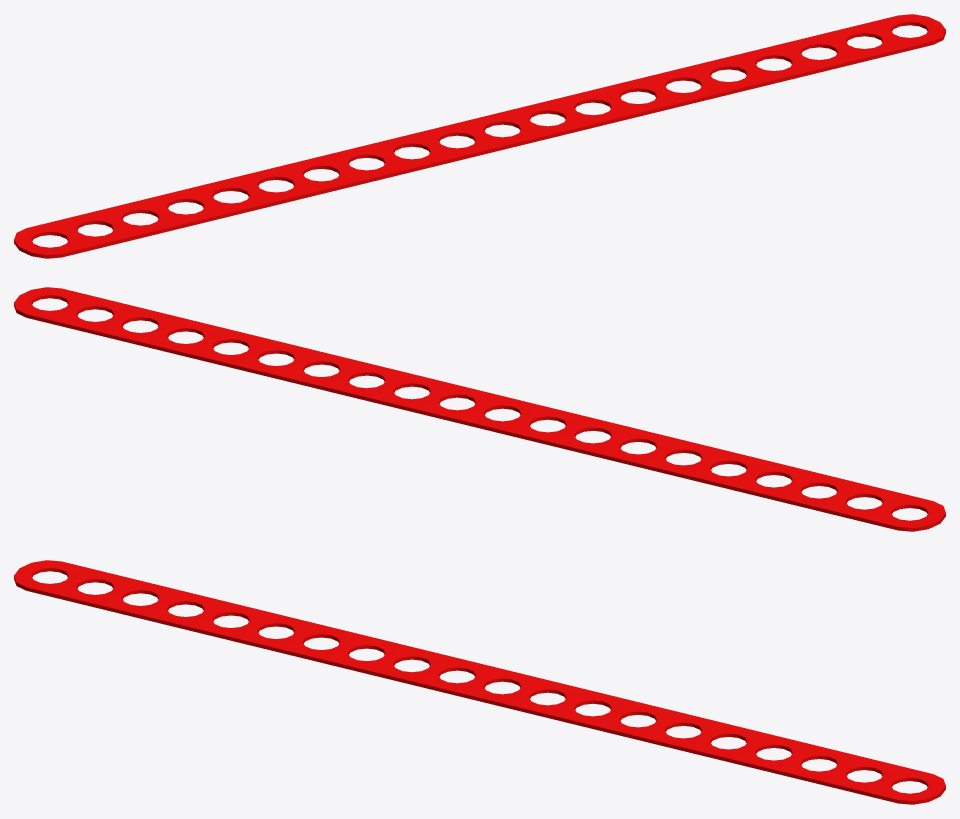
The model's file is TwentyLongRed.fbx.
3 views of the same model, one above another, from view 1: azimuth 30°, elevation 25°; view 2: azimuth 150°, elevation 25°; view 3: azimuth 330°, elevation 25° (orthographic).
Parts seen in each view (by area): view 1: Blue20; view 2: Blue20; view 3: Blue20.
Part boxes in pixels (x1,y1,x2,y2): Blue20: [14, 14, 945, 258]; Blue20: [14, 287, 945, 531]; Blue20: [14, 560, 945, 804].
Bounding box in the file's own units: 52.03 × 0.1942 × 3.45.
